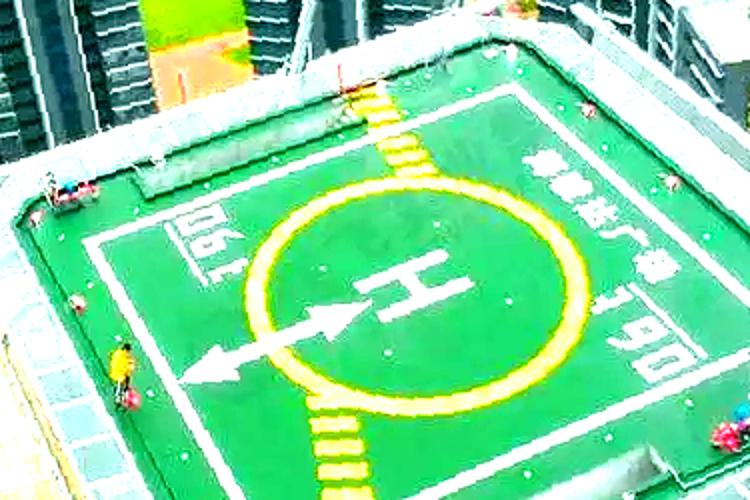Apron: (243, 172, 592, 421)
